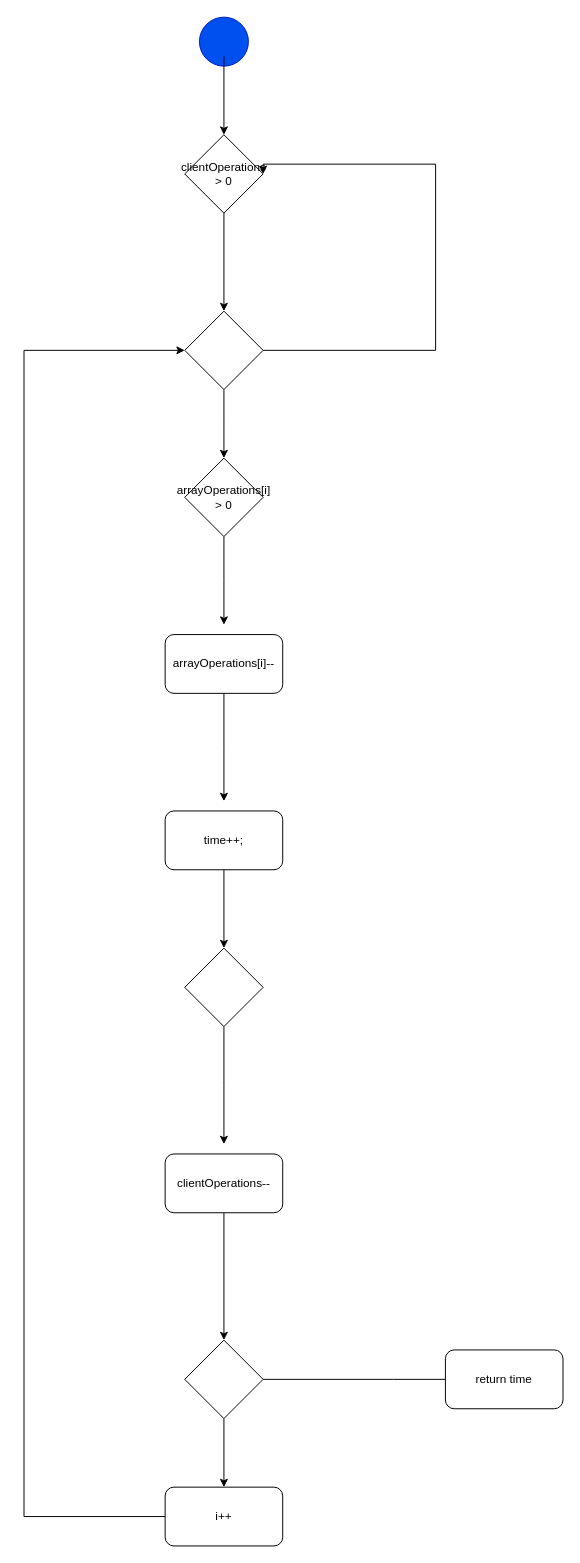
The diagram is 580 pixels wide and 1563 high, and some of its shapes have lost their labels. Here are the shapes that lost their labels. From the top down, the centre of each, then its label:
At (x=223, y=350): "i < arrayOperations.length".
At (x=223, y=987): "i == clientId".
At (x=223, y=1379): "clientOperations == 0".
